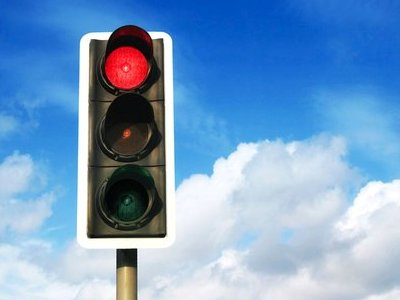trafficlight_red: (94, 32, 159, 230)
